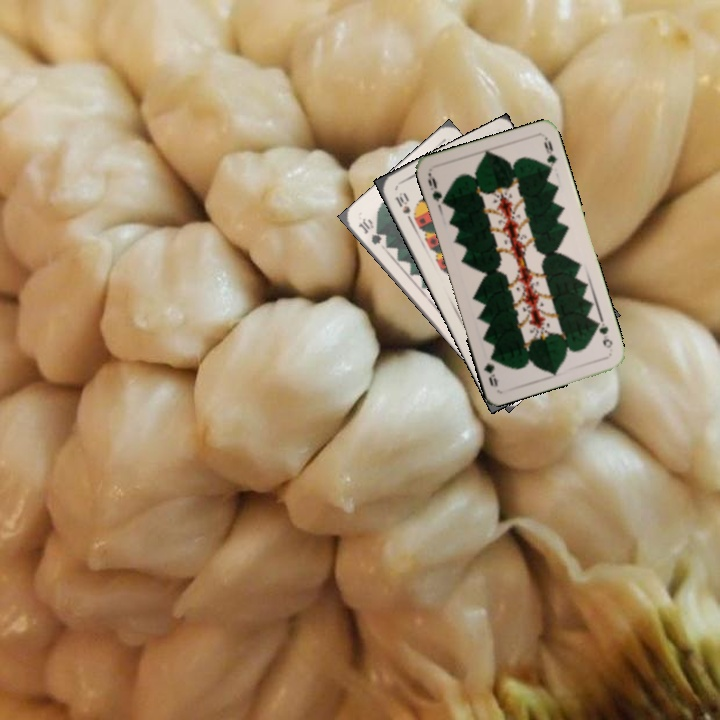G10: (354, 214, 384, 247)
G9: (424, 170, 450, 208), (591, 314, 615, 351)
S10: (391, 188, 415, 225)
